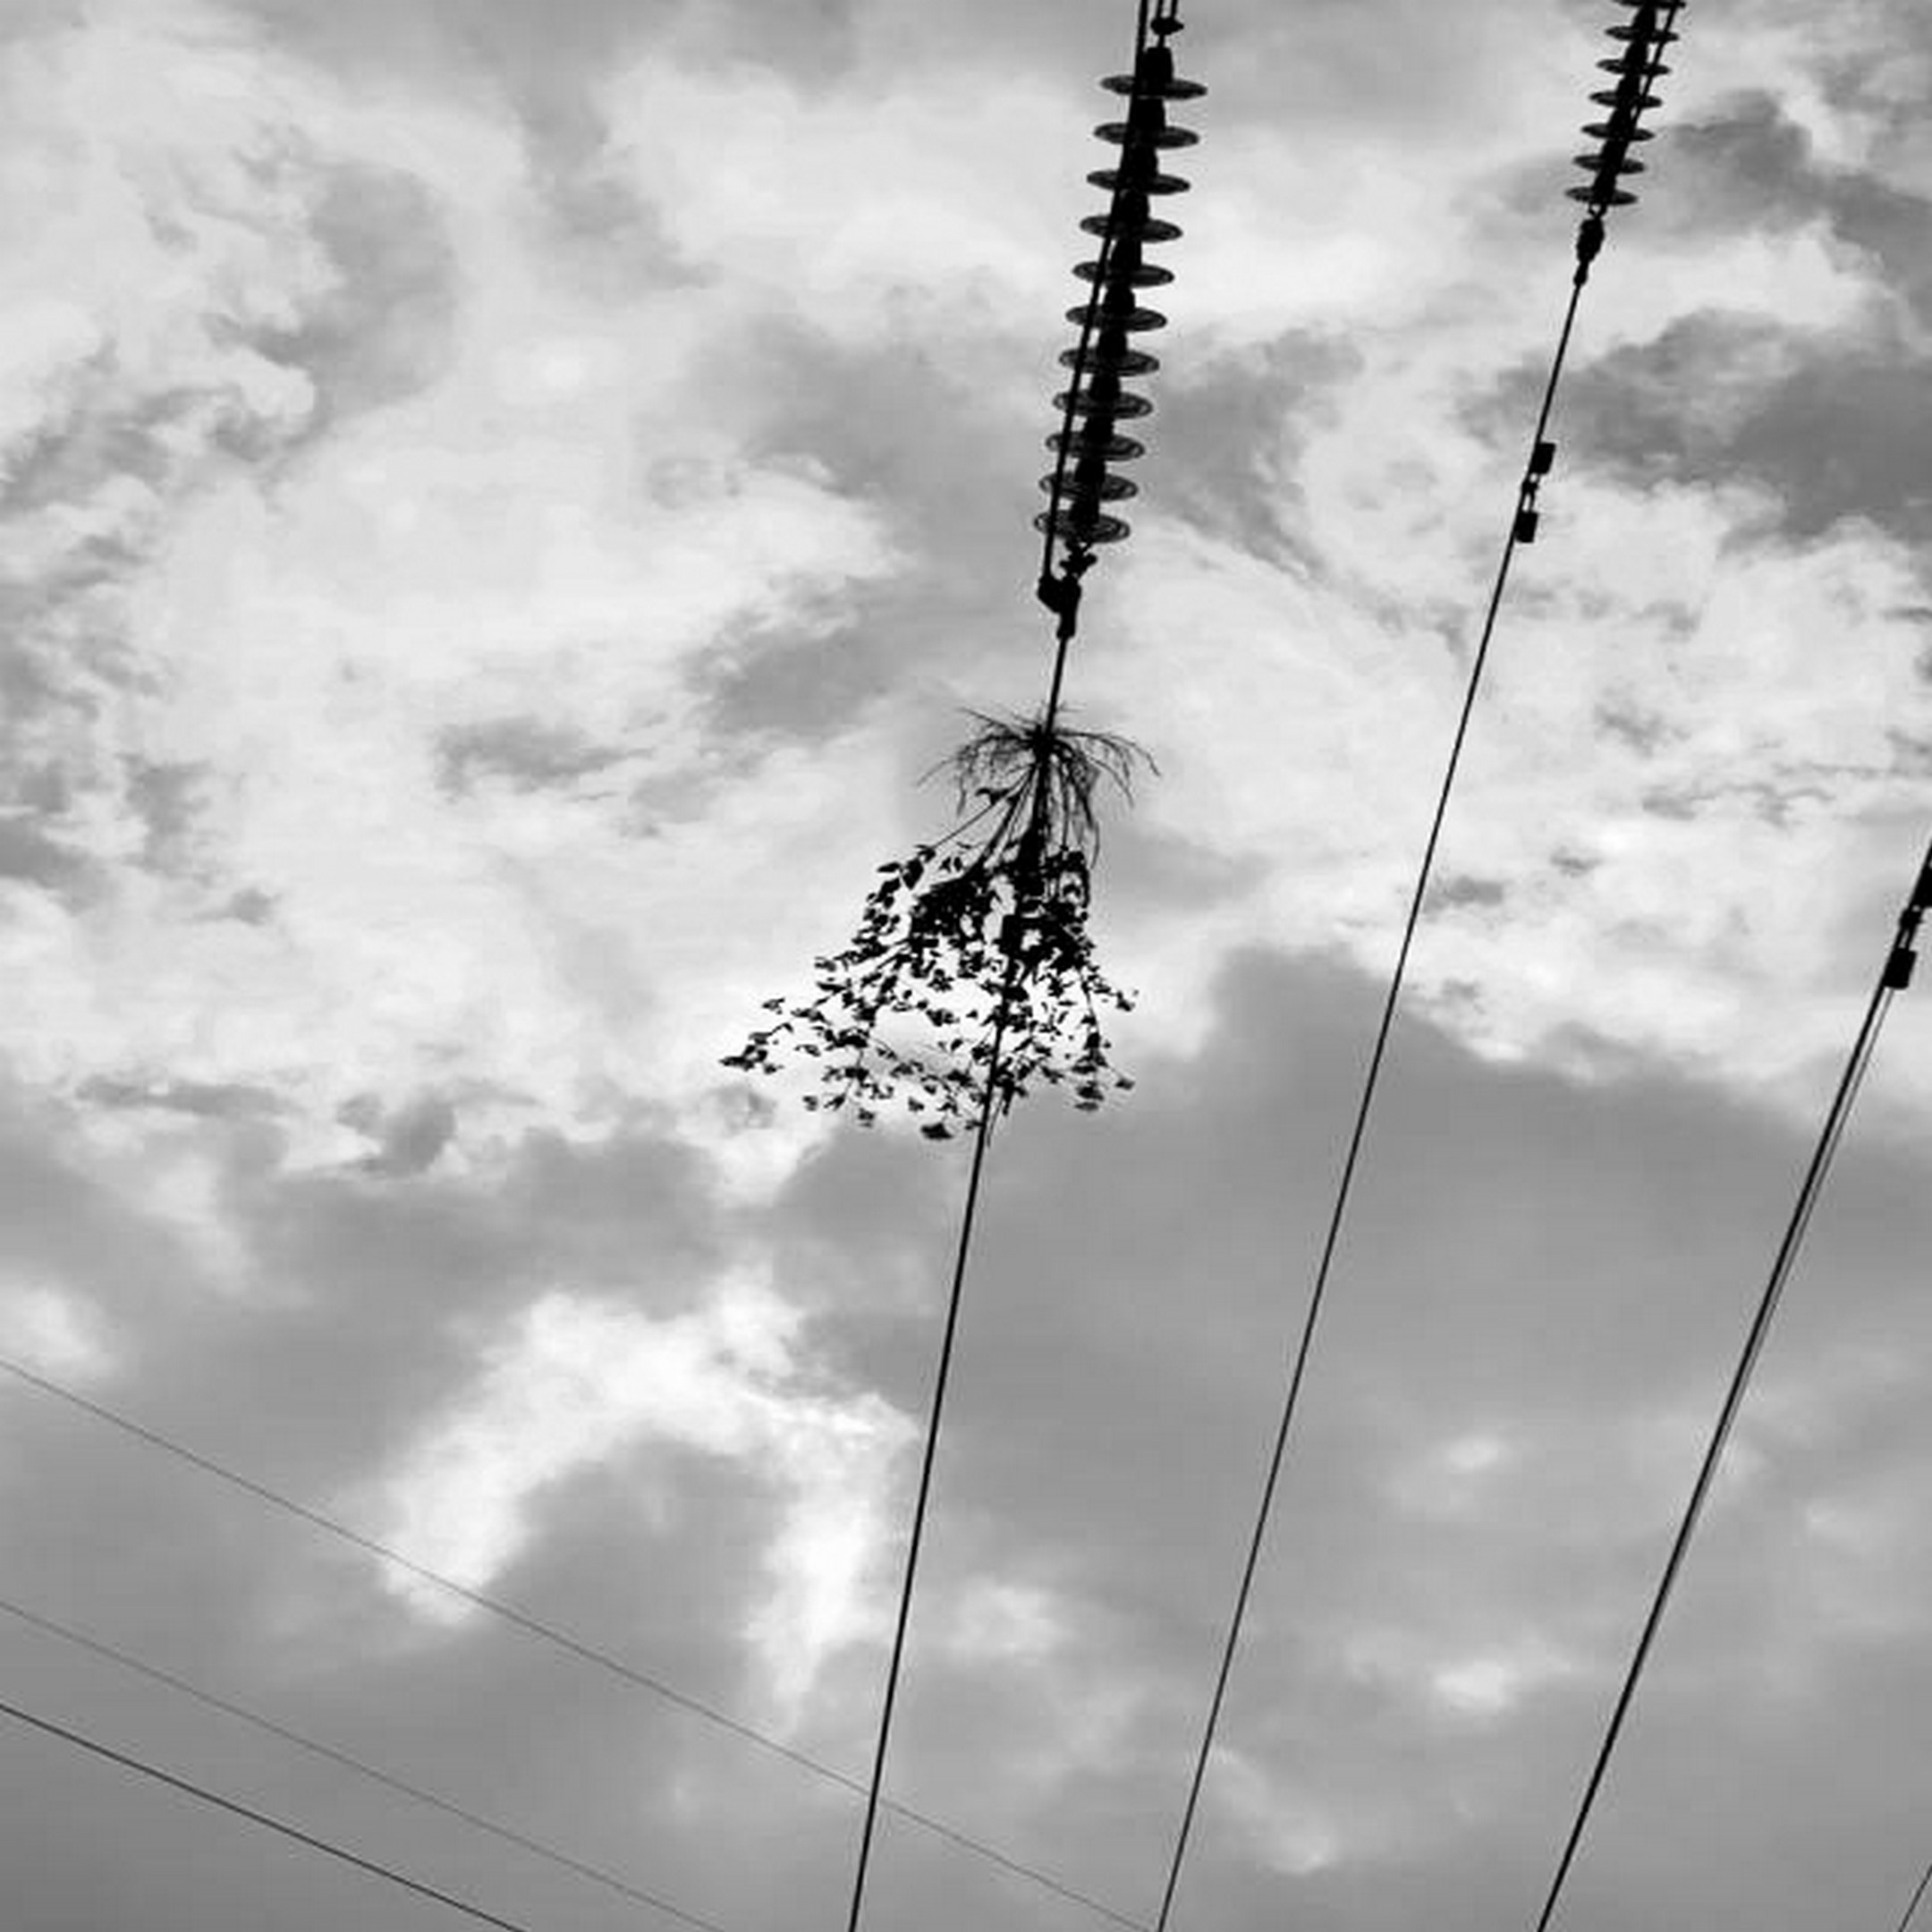wire foreign body: (701, 662, 1187, 1143)
